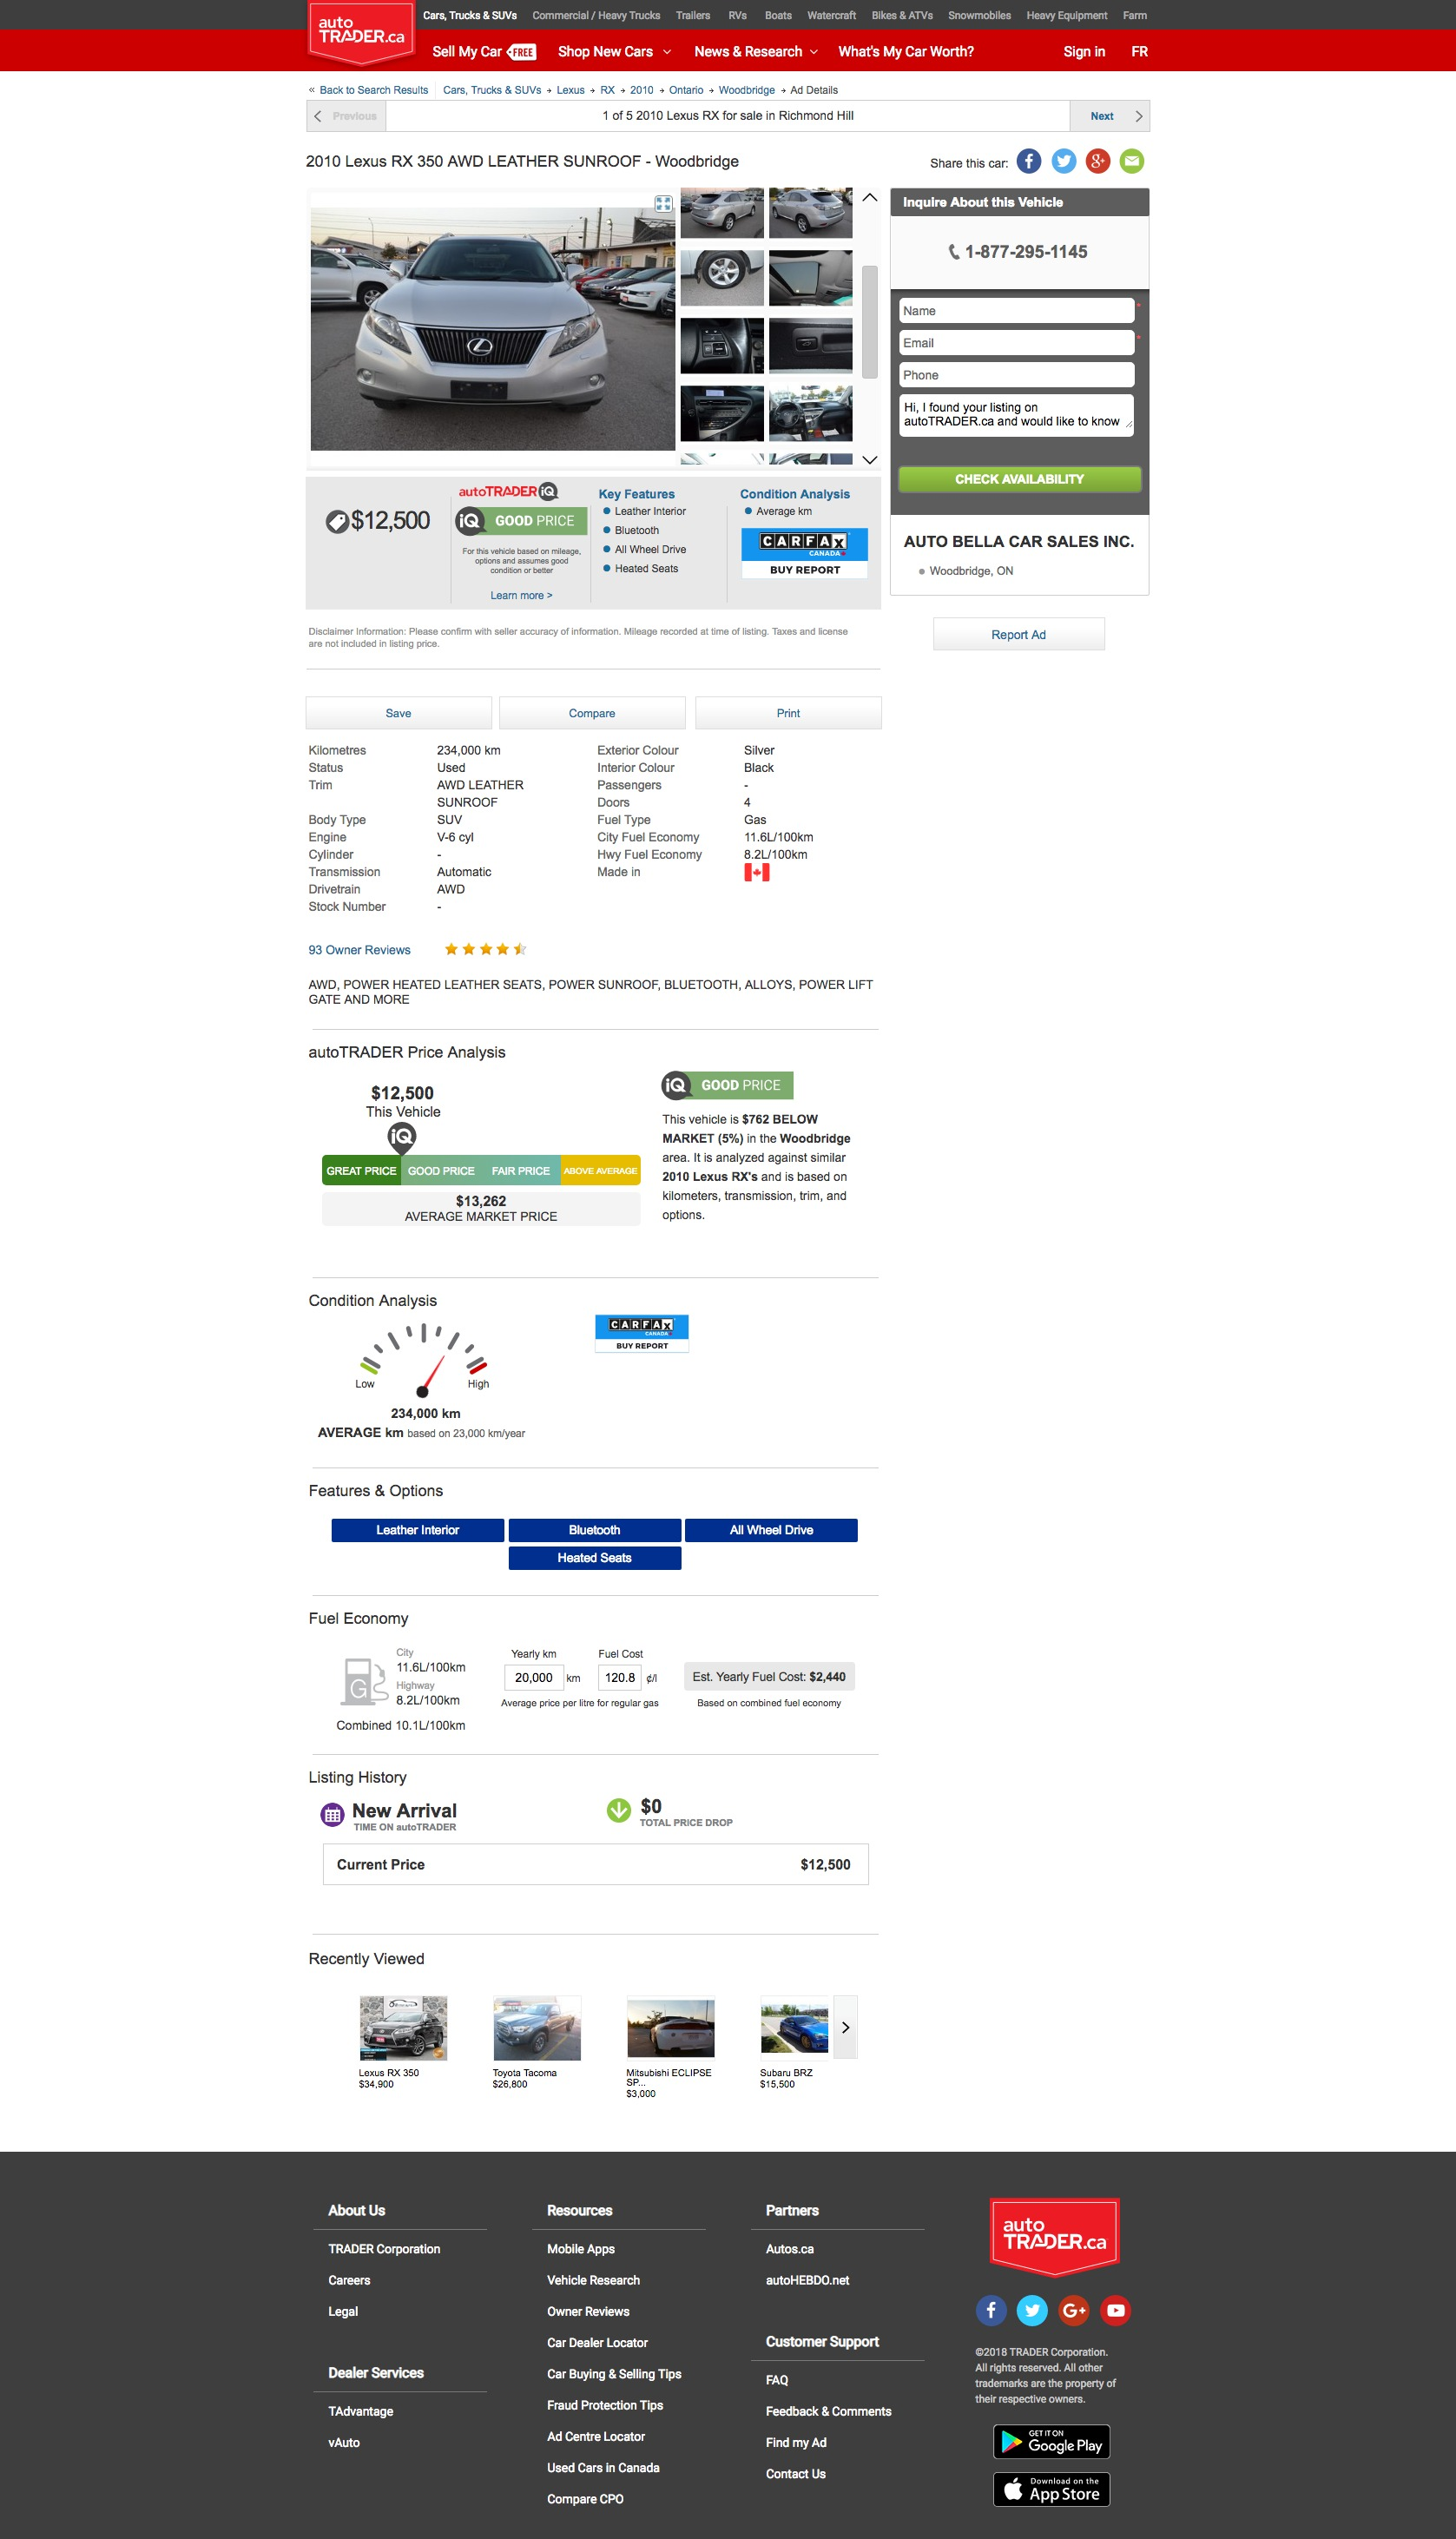car: (861, 455, 879, 466)
